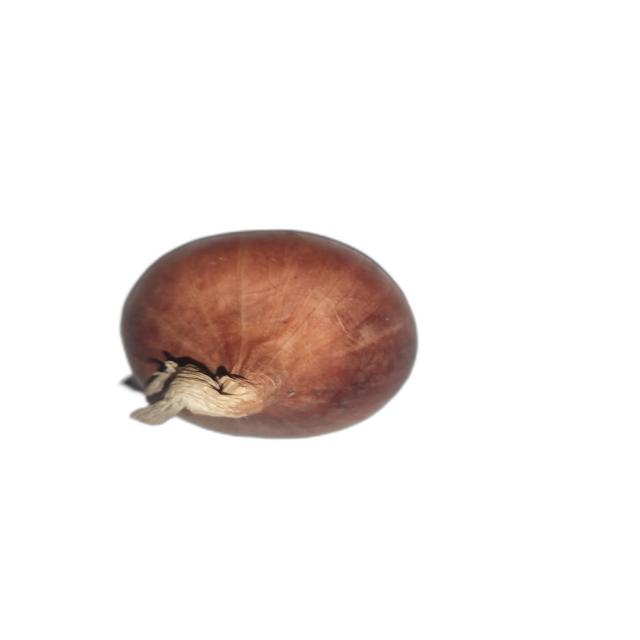onion: (116, 226, 421, 440)
